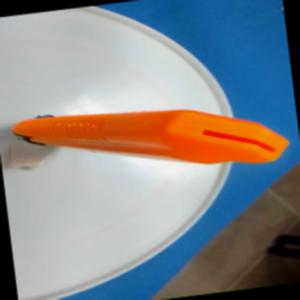estilete: (2, 85, 291, 195)
